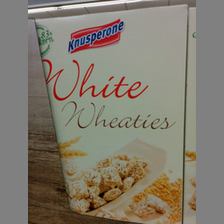cereal: (32, 4, 188, 224)
